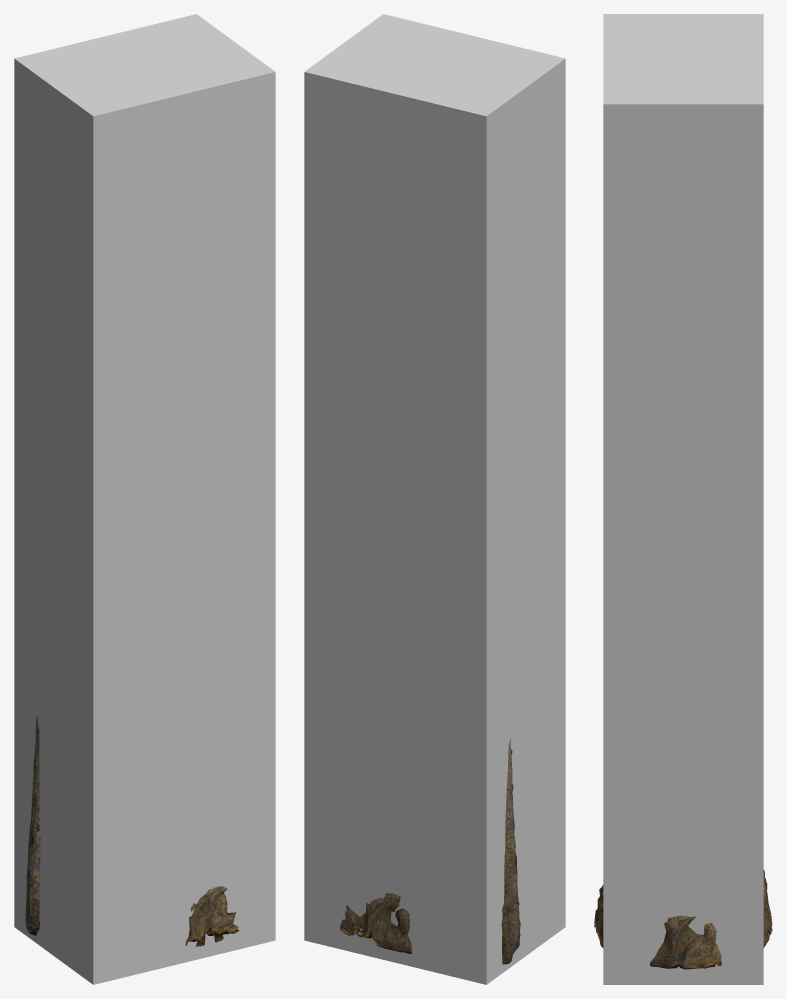
Rendered from reliquary.glb.
3 renders of one model, left to right at view 1: azimuth 30°, elevation 25°; view 2: azimuth 150°, elevation 25°; view 3: azimuth 270°, elevation 25°, orthographic.
Parts seen in each view (by area): view 1: col_reliquary, reliquary; view 2: col_reliquary, reliquary; view 3: col_reliquary, reliquary.
Boxes of the visible parts, box(x1,y1,x2,y2) form: col_reliquary: box(14, 14, 275, 984); reliquary: box(25, 715, 238, 946); col_reliquary: box(304, 14, 565, 984); reliquary: box(340, 738, 520, 964); col_reliquary: box(603, 14, 763, 984); reliquary: box(594, 869, 772, 969).
Size of the model in its own units: 0.1256 by 0.5148 by 0.0944.
1 material, 1 textured.
